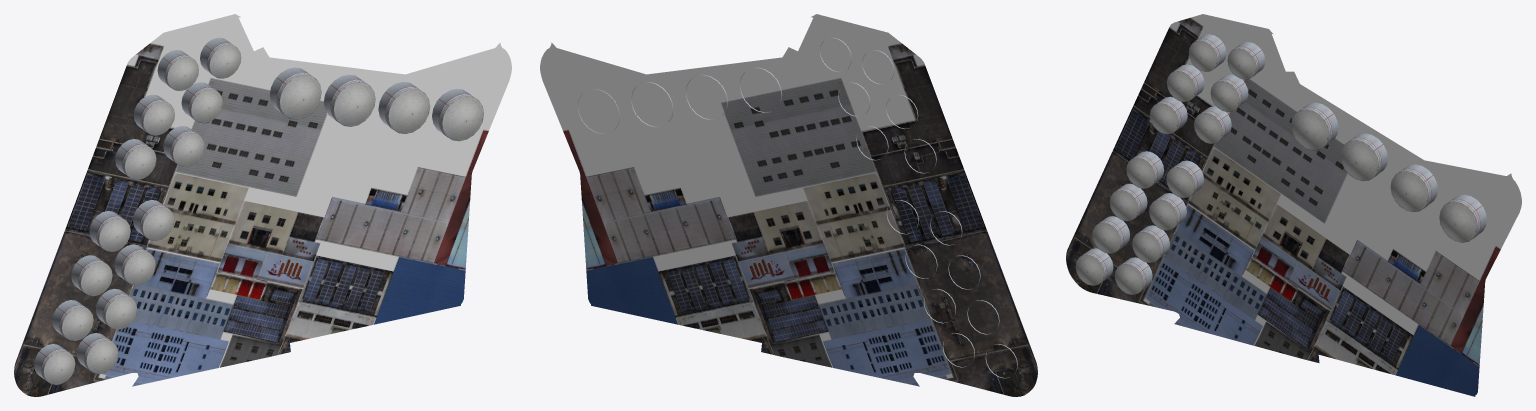
The picture shows the model from 3 angles, left to right: view 1: azimuth 30°, elevation 25°; view 2: azimuth 150°, elevation 25°; view 3: azimuth 330°, elevation 25°; orthographic projection. The views are drawn at different scales.
Parts seen in each view (by area): view 1: p10_02; view 2: p10_02; view 3: p10_02.
Boxes of the visible parts, bbox=[...] form: p10_02: bbox=[14, 14, 511, 396]; p10_02: bbox=[540, 14, 1037, 396]; p10_02: bbox=[1066, 14, 1521, 396].
Bounding box in the file's own units: 69448 × 46860 × 3472.
